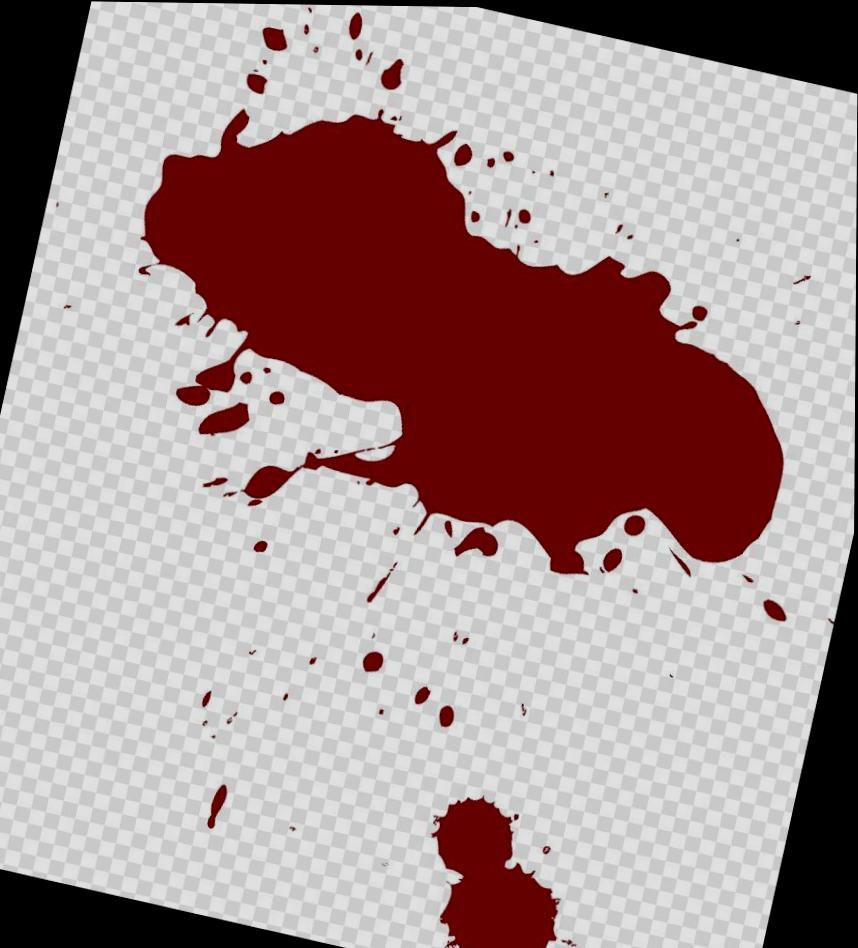Fire: (139, 107, 785, 573), (432, 792, 562, 948)
